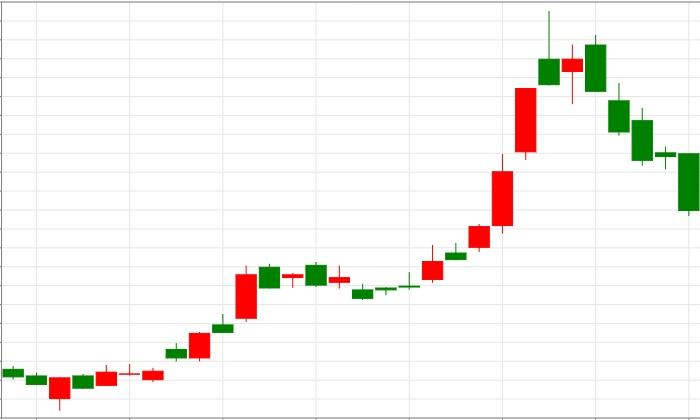shooting_star_fall: (422, 11, 560, 284)
